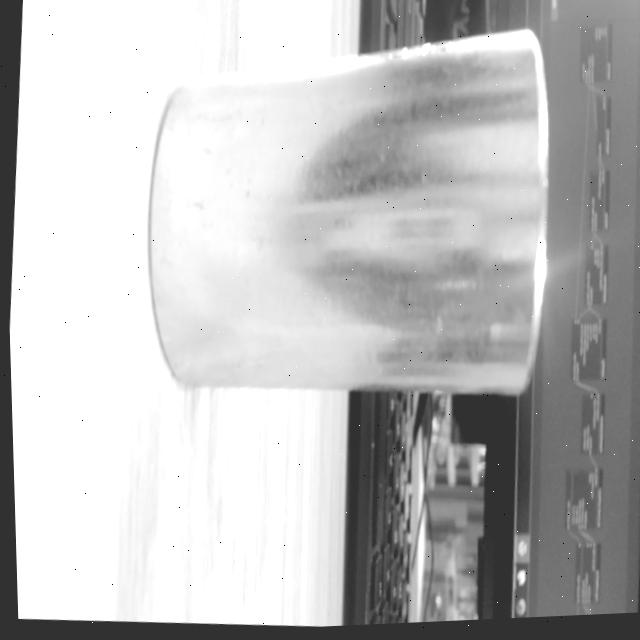Co_Nho: (145, 25, 548, 394)
